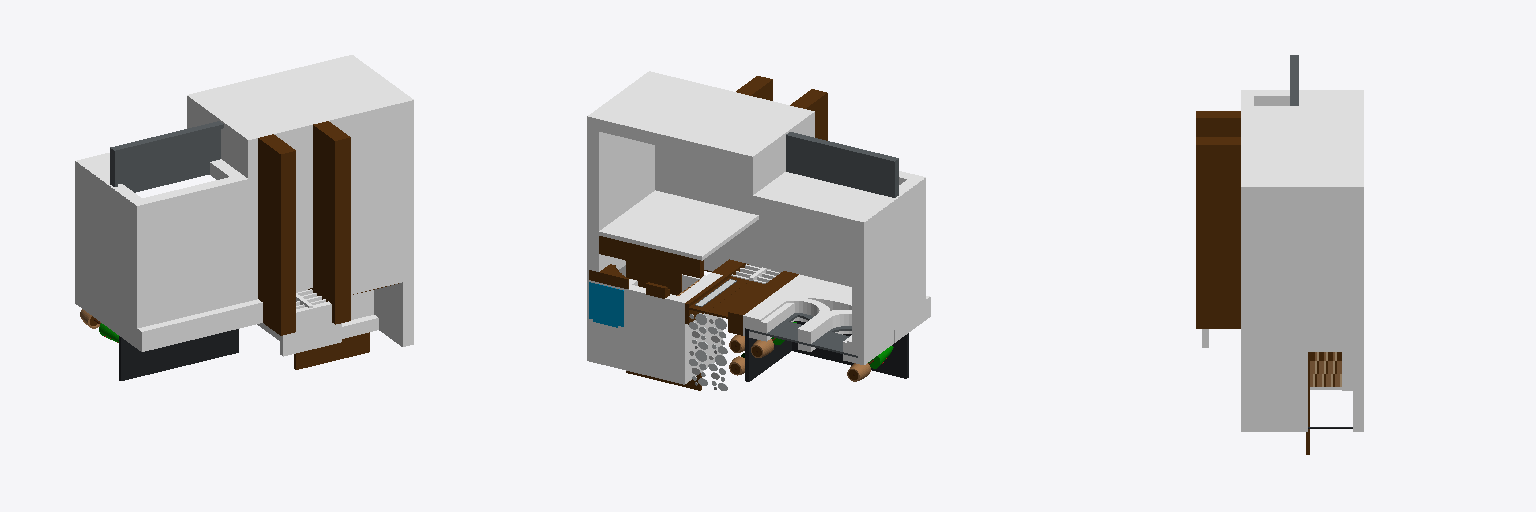
Rendered from tinker.obj.
3 renders of one model, left to right at view 1: azimuth 30°, elevation 25°; view 2: azimuth 150°, elevation 25°; view 3: azimuth 270°, elevation 25°, orthographic.
Visible parts, largest first — view 1: obj_0; view 2: obj_0; view 3: obj_0.
Boxes of the visible parts, <box> form: obj_0: <box>75,55,413,380</box>; obj_0: <box>587,71,930,390</box>; obj_0: <box>1196,55,1363,454</box>.
Bounding box in the file's own units: 142 × 134 × 75.